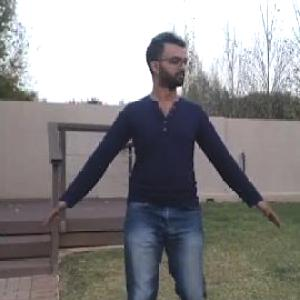land: (27, 15, 283, 299)
